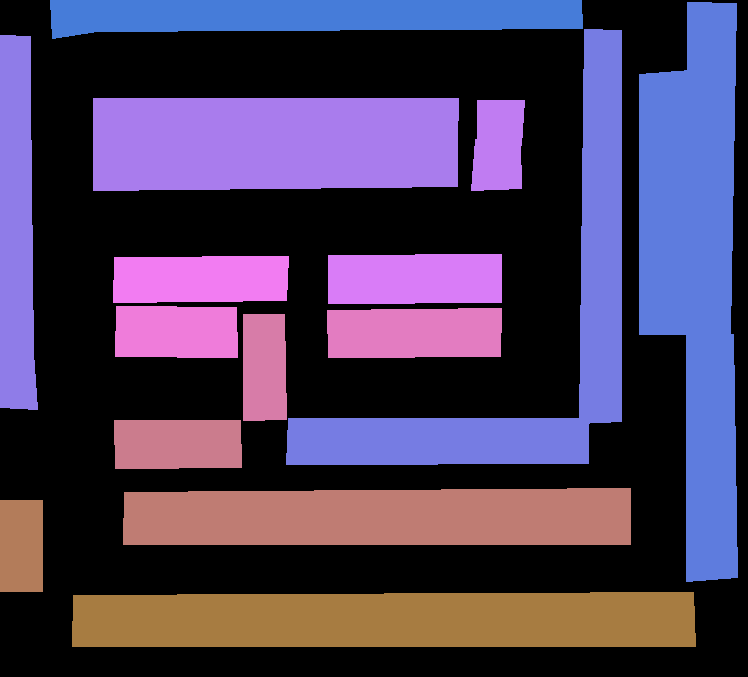parkingspot: (72, 592, 695, 646), (123, 488, 630, 544), (50, 0, 582, 38), (93, 139, 457, 190), (685, 2, 736, 334), (579, 29, 621, 423), (93, 98, 458, 143), (286, 418, 588, 464), (0, 35, 37, 409), (639, 70, 690, 334), (686, 333, 737, 581), (327, 308, 501, 357), (328, 254, 501, 303), (113, 256, 288, 302), (115, 306, 237, 357), (114, 420, 241, 468), (243, 314, 286, 420), (0, 500, 42, 591), (471, 139, 521, 190), (477, 100, 524, 145)
